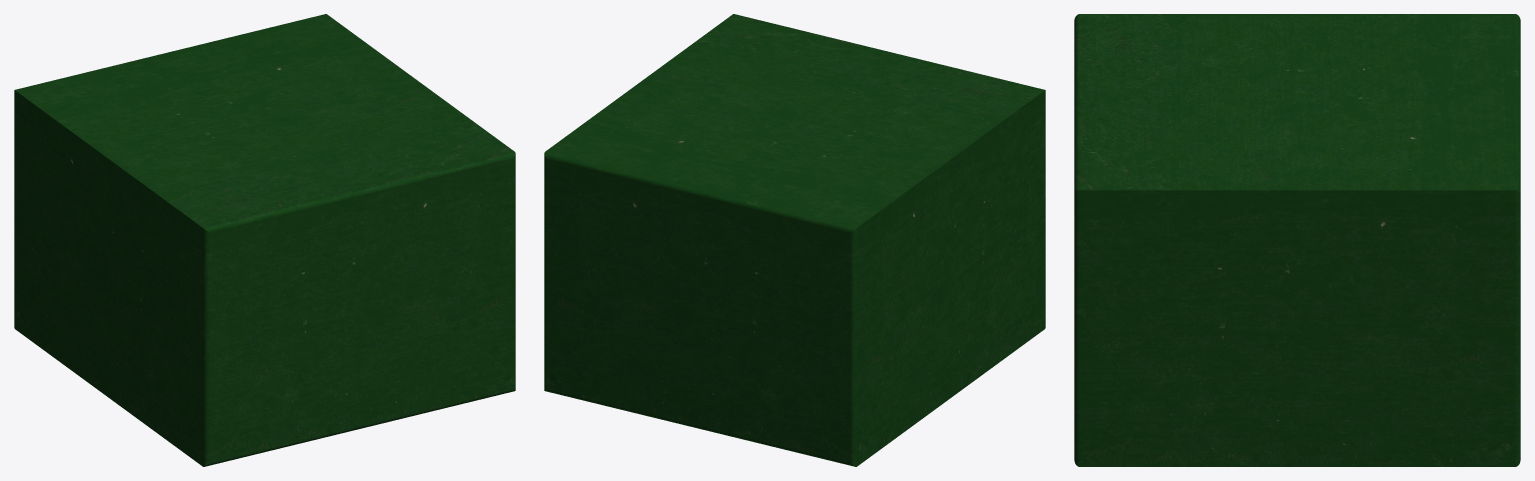
3 renders of one model, left to right at view 1: azimuth 30°, elevation 25°; view 2: azimuth 150°, elevation 25°; view 3: azimuth 270°, elevation 25°, orthographic. The views are drawn at different scales.
Visible parts, largest first — view 1: rectangle_2; view 2: rectangle_2; view 3: rectangle_2.
Boxes of the visible parts, x1,y1,x2,y2 form: rectangle_2: [14, 14, 515, 466]; rectangle_2: [544, 14, 1045, 466]; rectangle_2: [1074, 14, 1520, 466].
Bounding box in the file's own units: 0.0374 × 0.0274 × 0.04.
1 material, 1 textured.
